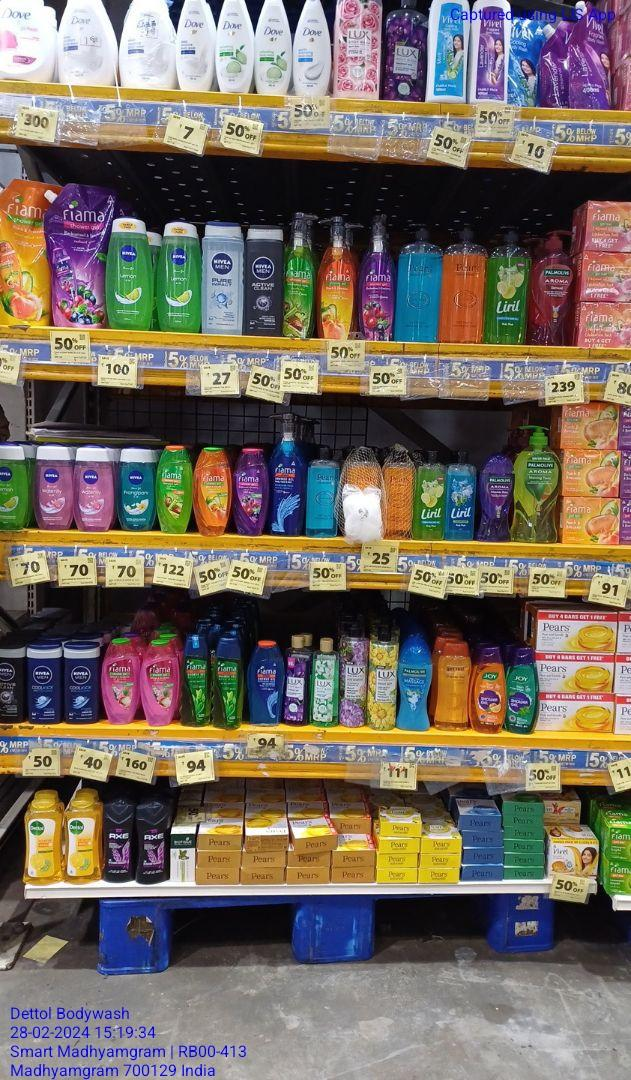Dettol_Bodywash_Refresh: (24, 795, 61, 886), (64, 794, 99, 884)
Dove_Deep_Moisture_Body_Wash_250ML: (179, 0, 213, 93)
Dove_Gentle_Exfoliating_Body_Wash_250ML: (295, 0, 332, 99)
Dove_Refreshing_Body_Wash_250ML: (257, 0, 292, 100), (216, 1, 253, 95)
Fiama_Shower_Gel_Lemongrass_and_Jojoba_250ML: (157, 445, 191, 535)
Fiama_Shower_Gel_Patchouli_and_Macadamia_250ML: (141, 637, 178, 727), (103, 639, 139, 724)
Fiama_Shower_Gel_Peach_and_Avocado_250ML: (196, 445, 233, 539)
Get_Real_Shower_Gel_Moisturising_Glycerin_300ML: (437, 643, 469, 732)
Joy_Shower_Gel_Mandarin_and_Lemongrass_250ML: (472, 645, 505, 735)
Joy_Shower_Gel_Mint_and_Eucalyptus_250ML: (507, 648, 536, 735)
Liril_Cooling_Mint_Body_Wash_250ML: (445, 450, 475, 541)
Liril_Lime_and_Tea_Tree_Oil_Body_Wash_250ML: (414, 450, 444, 542)
Lux_Black_Orchid_Scent_and_Juniper_Oil_Body_Wash_245ML: (284, 634, 309, 729)
Lux_Body_Wash_Skin_Detox_Freesia_Scent_and_Alove_Vera_245ML: (310, 637, 339, 727)
Nivea_Shower_Gel_Frangipani_and_Oil_250ML: (117, 444, 153, 533)
Nivea_Shower_Gel_Lemon_and_Oil_250ML: (106, 213, 151, 331), (158, 218, 201, 334)
Nivea_Shower_Gel_Waterlily_and_Oil_250ML: (73, 443, 113, 534), (34, 441, 71, 532)
Palmolive_Aroma_Relax_250ML: (481, 455, 515, 542)
Pears_Pure_Glycerin_and_Mint_Extracts_Body_Wash_250ML: (307, 447, 339, 541)
